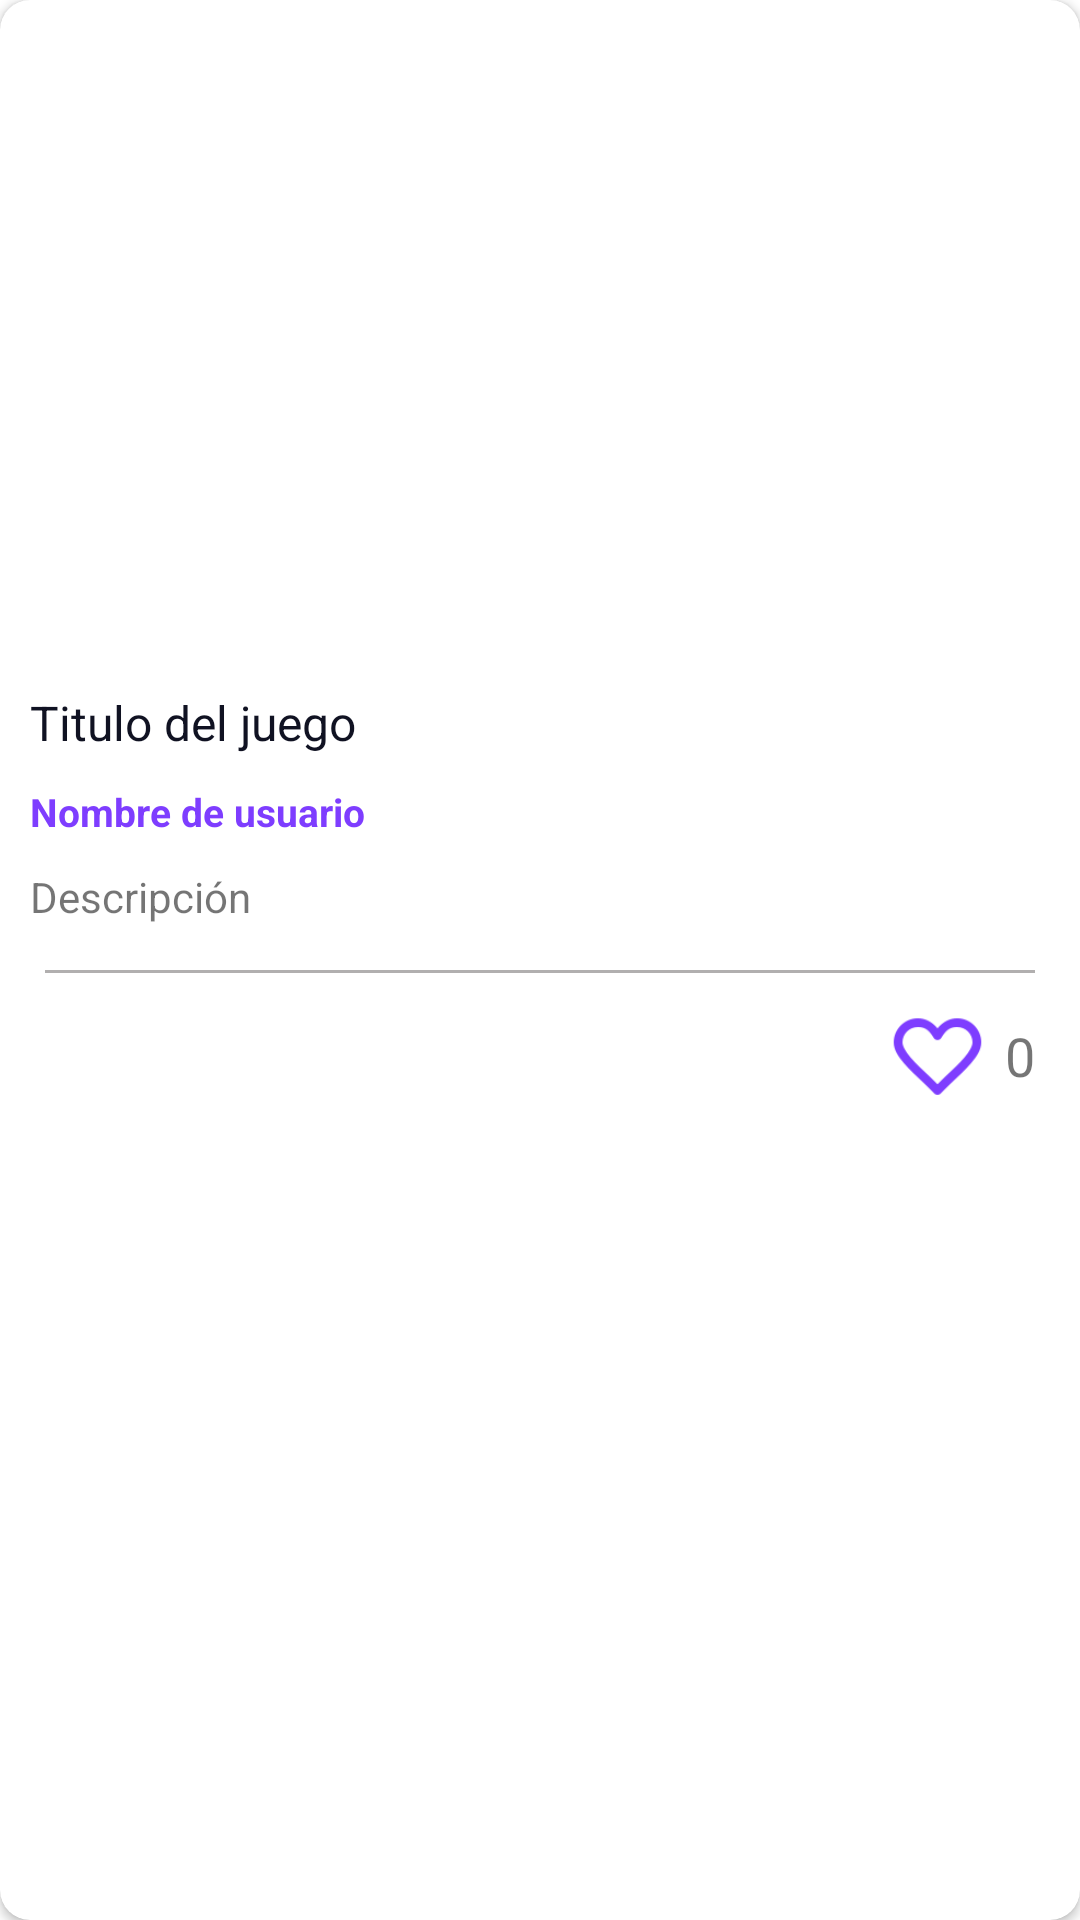

Icon bounding boxes for this 1080x1920 phone screenshot, format [x1=x1, y1=y1, x2=x2, y2=y2]:
unlike: [x1=893, y1=1018, x2=982, y2=1095]
